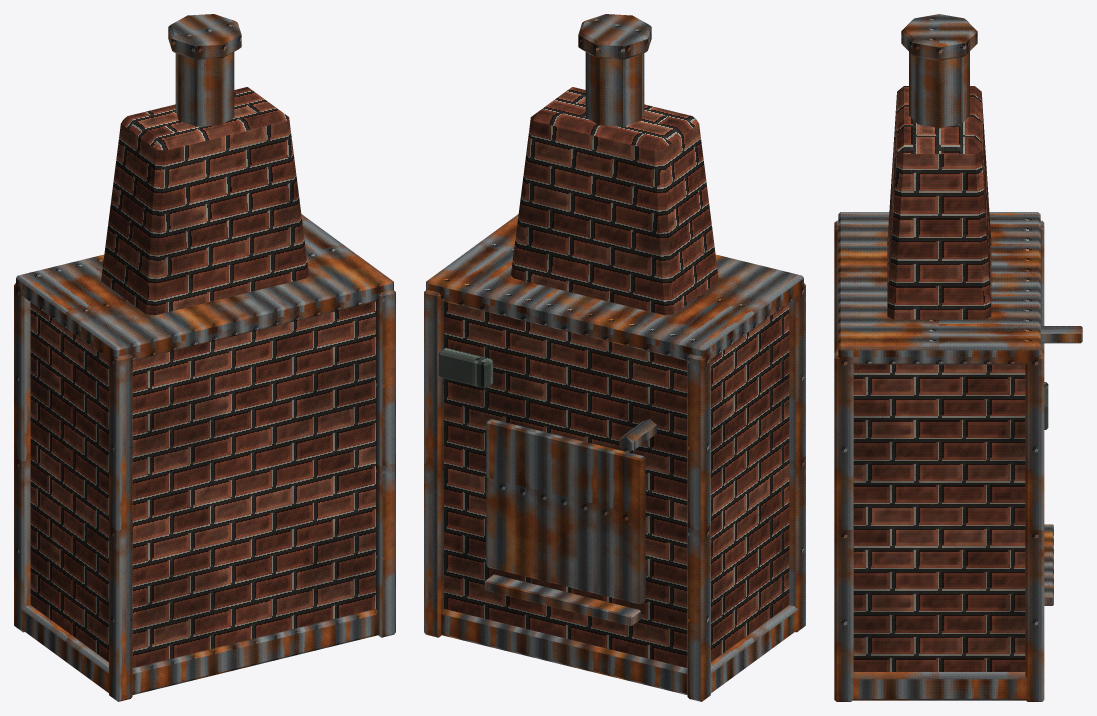
File: prop_augment_furnace.glb
3 renders of one model, left to right at view 1: azimuth 30°, elevation 25°; view 2: azimuth 150°, elevation 25°; view 3: azimuth 270°, elevation 25°, orthographic.
Visible parts, largest first — view 1: prop_augment_furnace_mesh; view 2: prop_augment_furnace_mesh; view 3: prop_augment_furnace_mesh.
Boxes of the visible parts, left/top/right/bottom form: prop_augment_furnace_mesh: left=14, top=14, right=395, bottom=701; prop_augment_furnace_mesh: left=424, top=14, right=805, bottom=701; prop_augment_furnace_mesh: left=834, top=14, right=1082, bottom=701.
Size of the model in its own units: 1.7 by 3.5 by 1.3.
4 materials, 4 textured.
